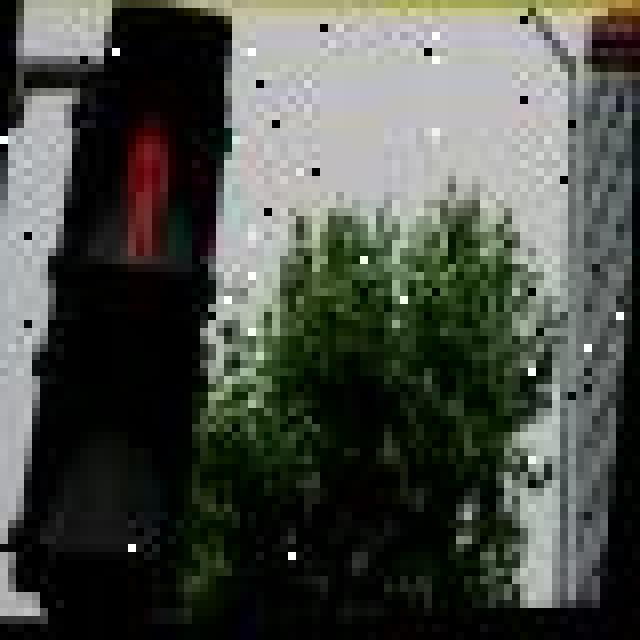redlight: (0, 0, 240, 632)
